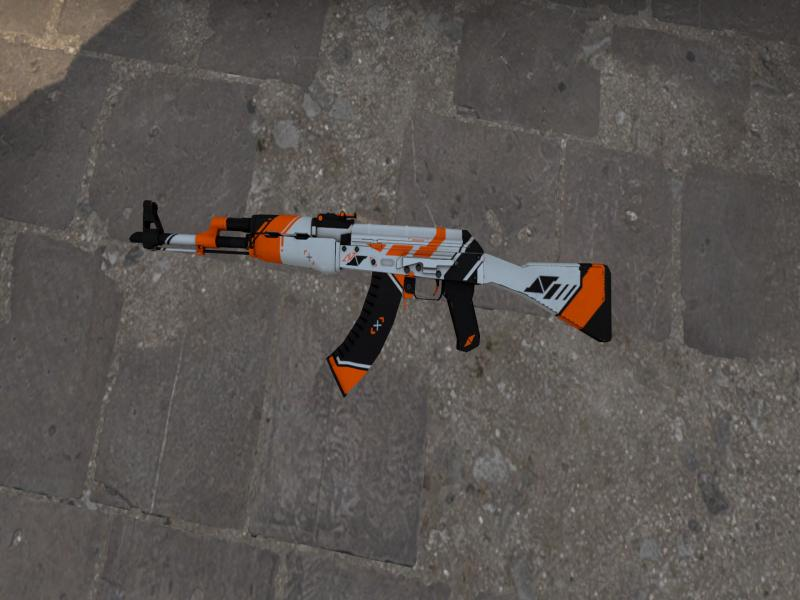AK47: (130, 201, 612, 394)
